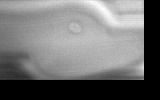cell: (67, 19, 84, 36)
